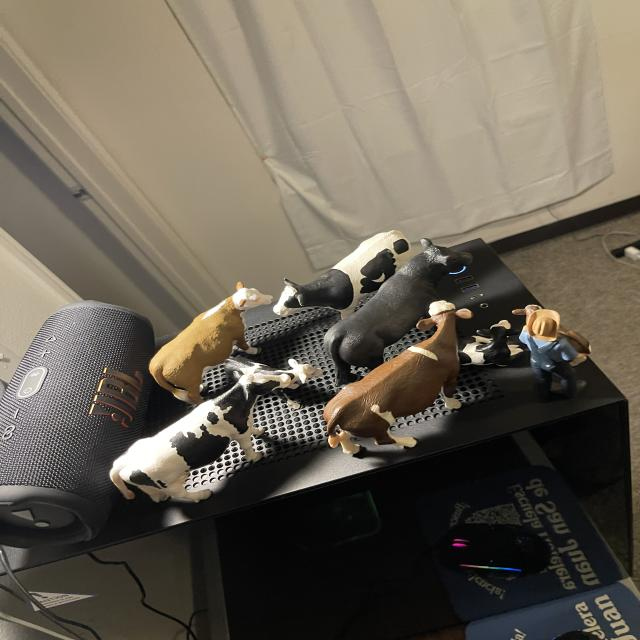cow: (102, 342, 317, 538), (307, 289, 513, 489), (307, 220, 479, 396), (142, 270, 294, 415), (263, 217, 425, 347), (222, 351, 325, 392), (459, 319, 512, 367), (552, 319, 596, 361), (508, 295, 545, 332)
person: (512, 301, 592, 408)
